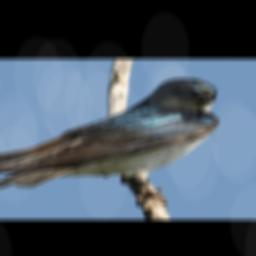Swallow: (0, 78, 220, 209)
